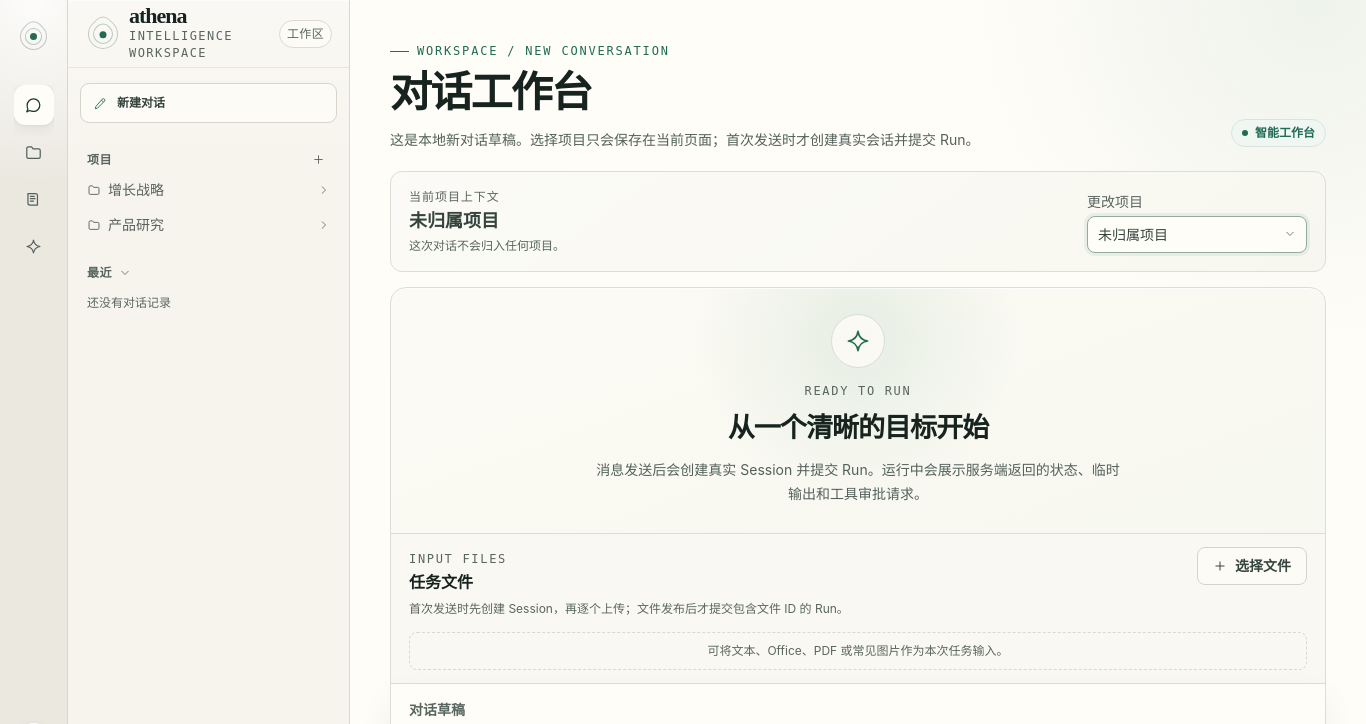
Test: 新对话草稿 › 项目菜单支持键盘选择、Escape 关闭和点击外部关闭
Check: the dropdown named "更改项目" is enabled, box [1087,216,1307,252]
Press Arrowdown
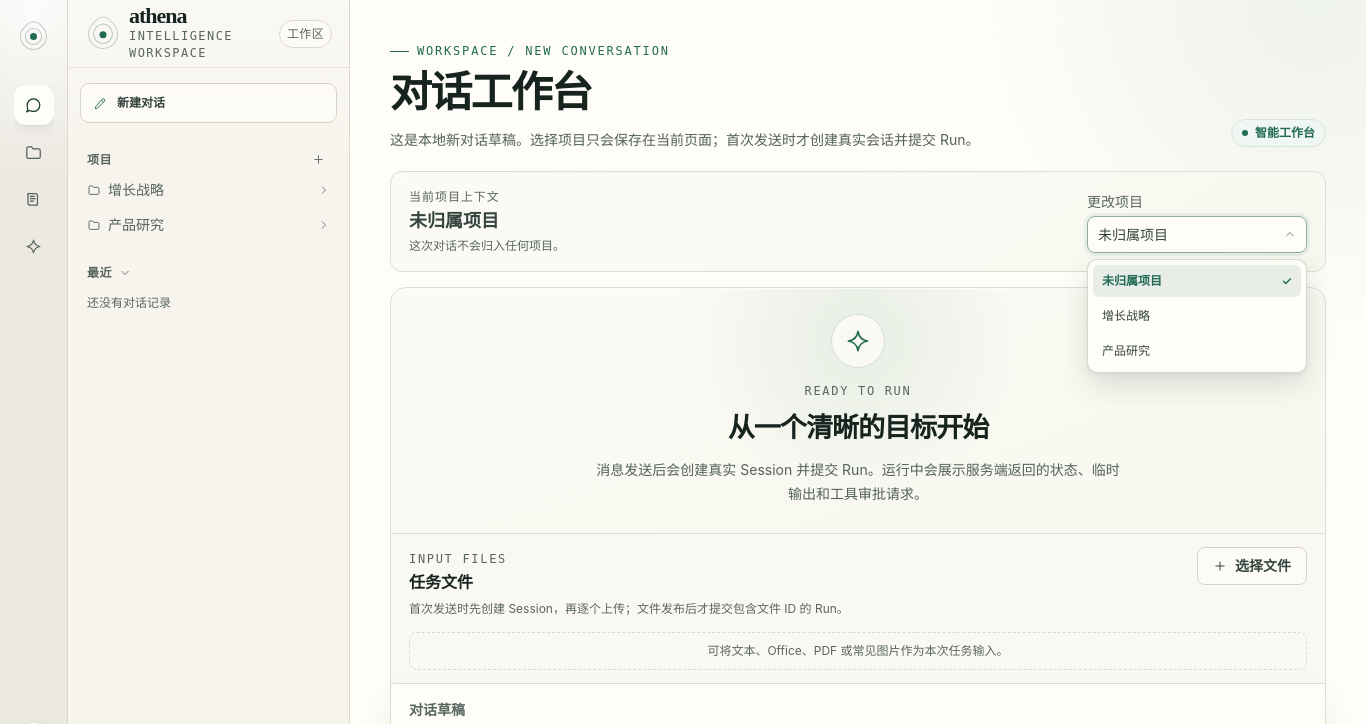
Check: the list "项目" is shown, box [1087,258,1307,372]
Press Arrowdown
Press End
Press Enter
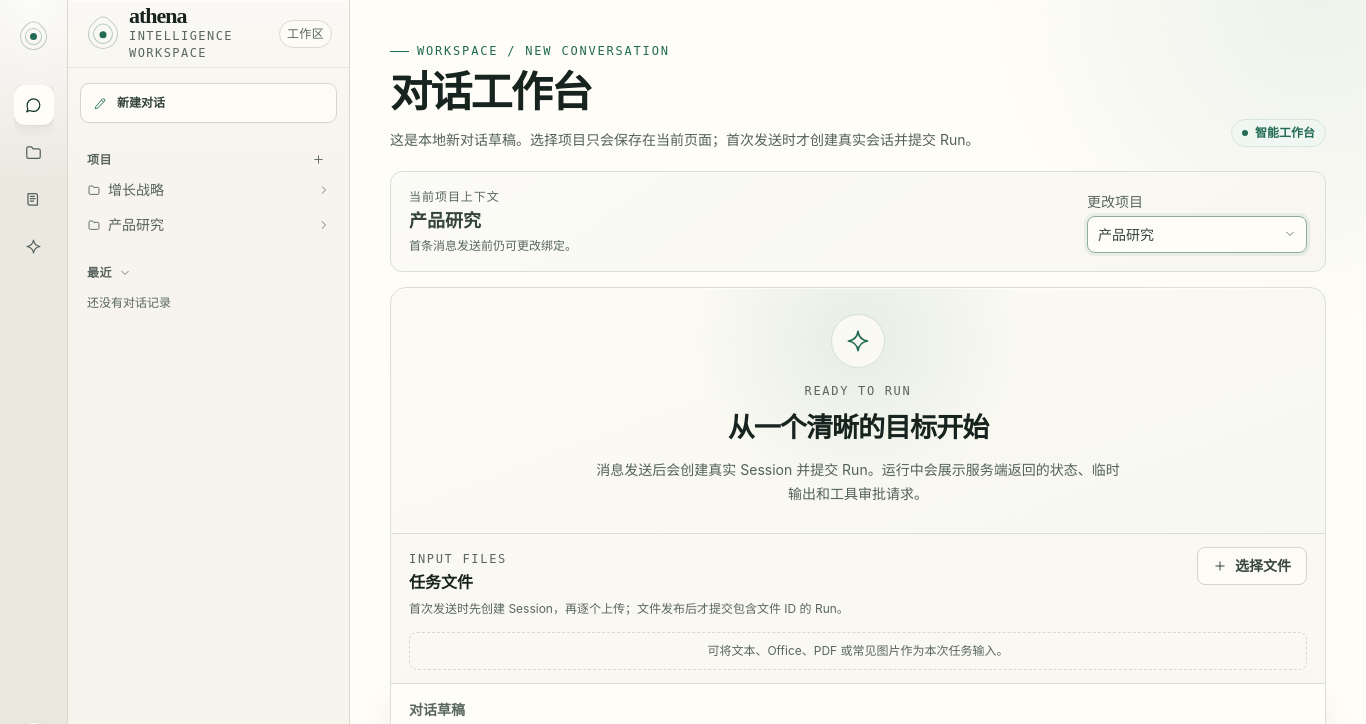
Check: the dropdown named "更改项目" reads "产品研究", box [1087,216,1307,252]
Press Arrowdown
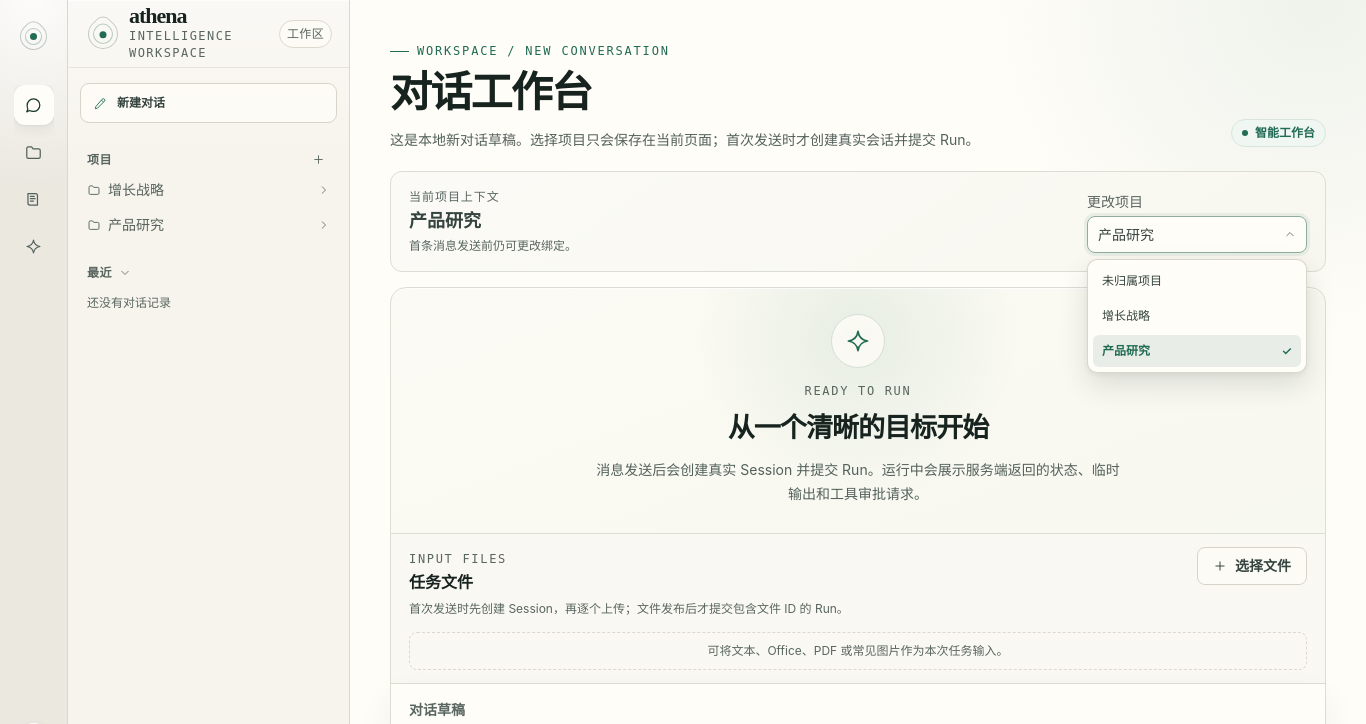
Press Escape
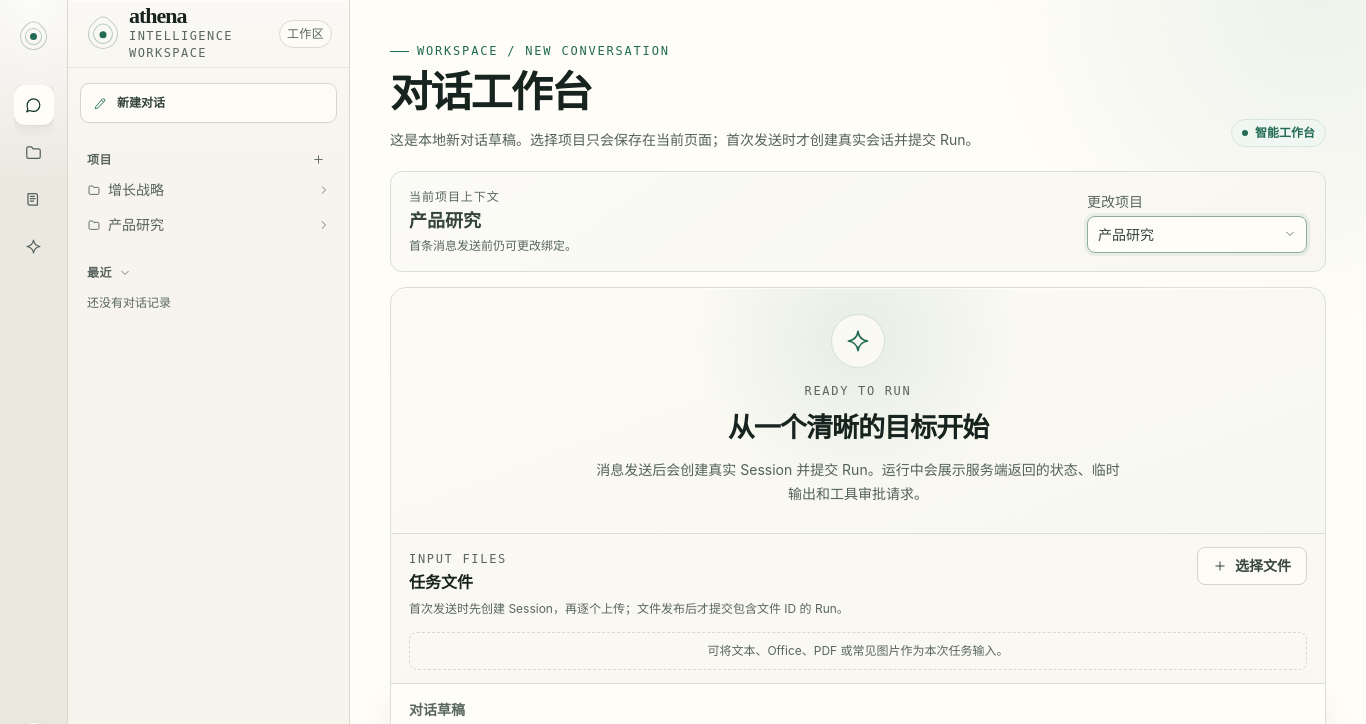
Check: the list "未归属项目 增长战略 产品研究 ✓" is gone
Click the dropdown named "更改项目".
click(1197, 234)  # box [1087,216,1307,252]
(page scrolled)
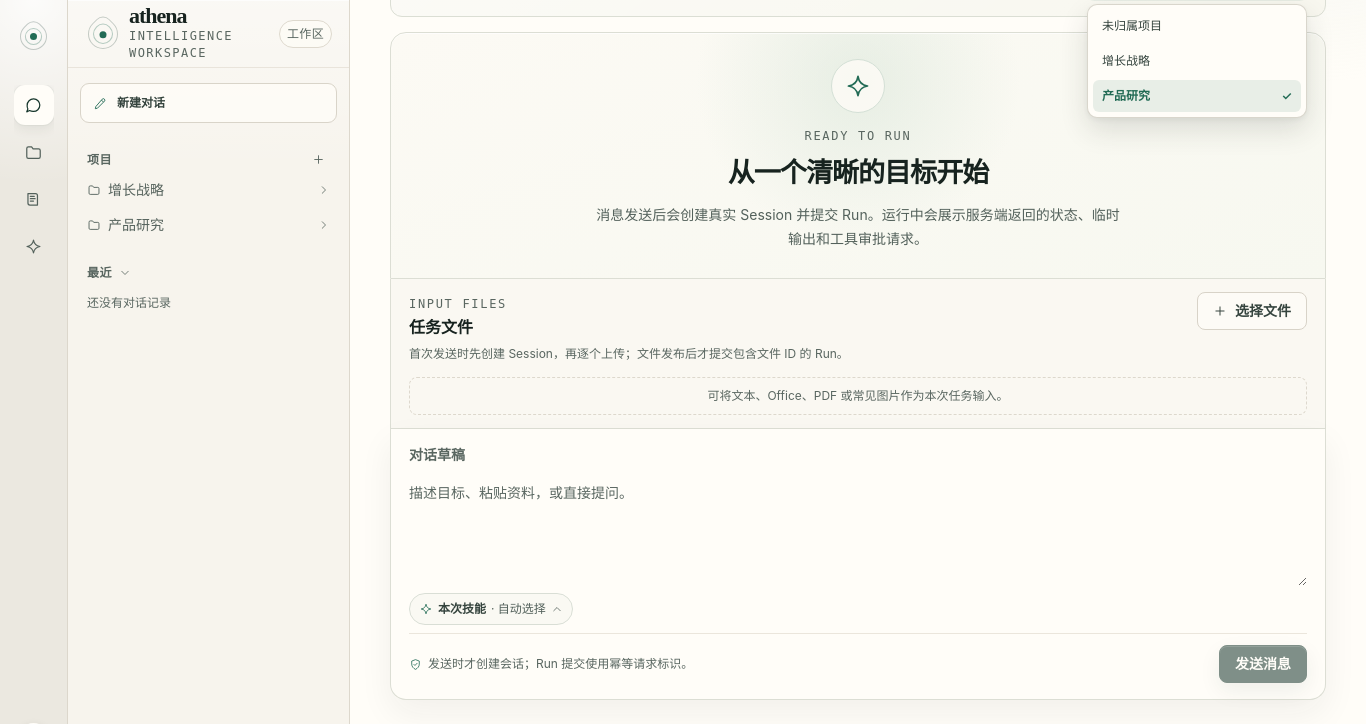
Click the text box labelled "对话草稿".
click(858, 529)  # box [409,471,1307,586]
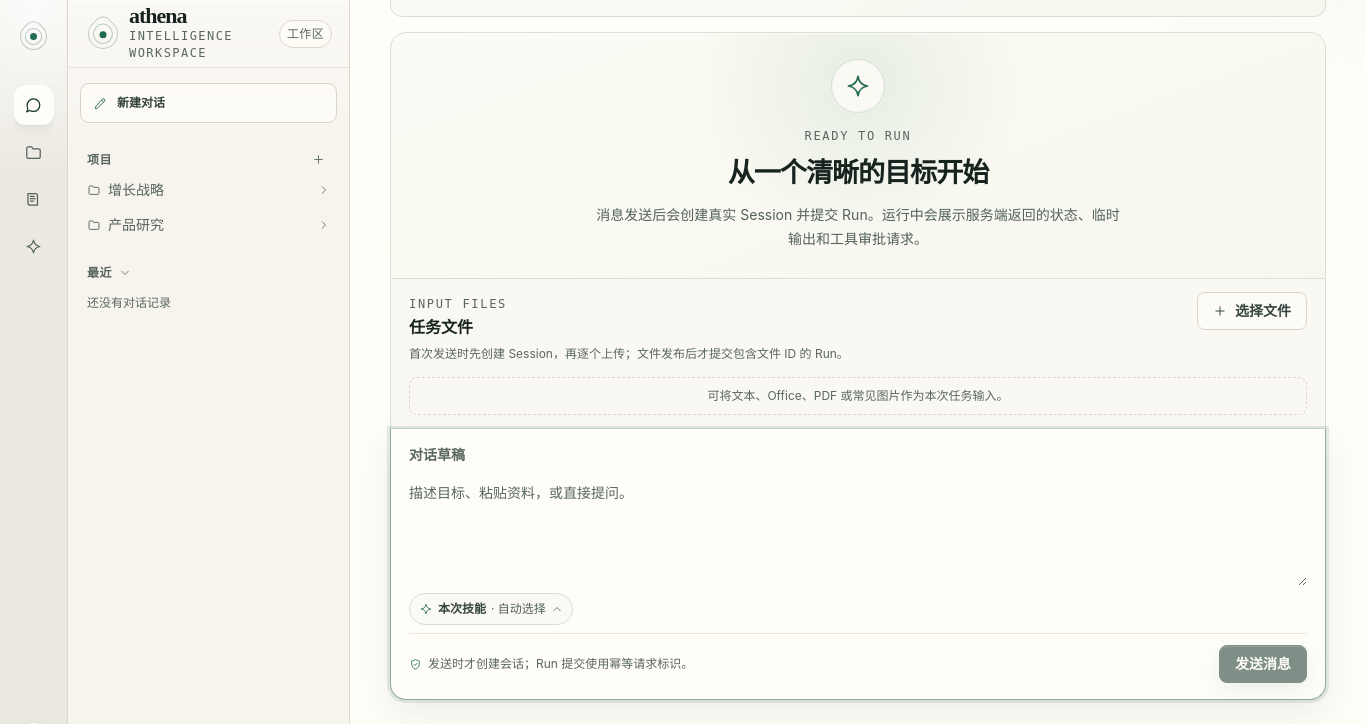
Check: the list "未归属项目 增长战略 产品研究 ✓" is gone
